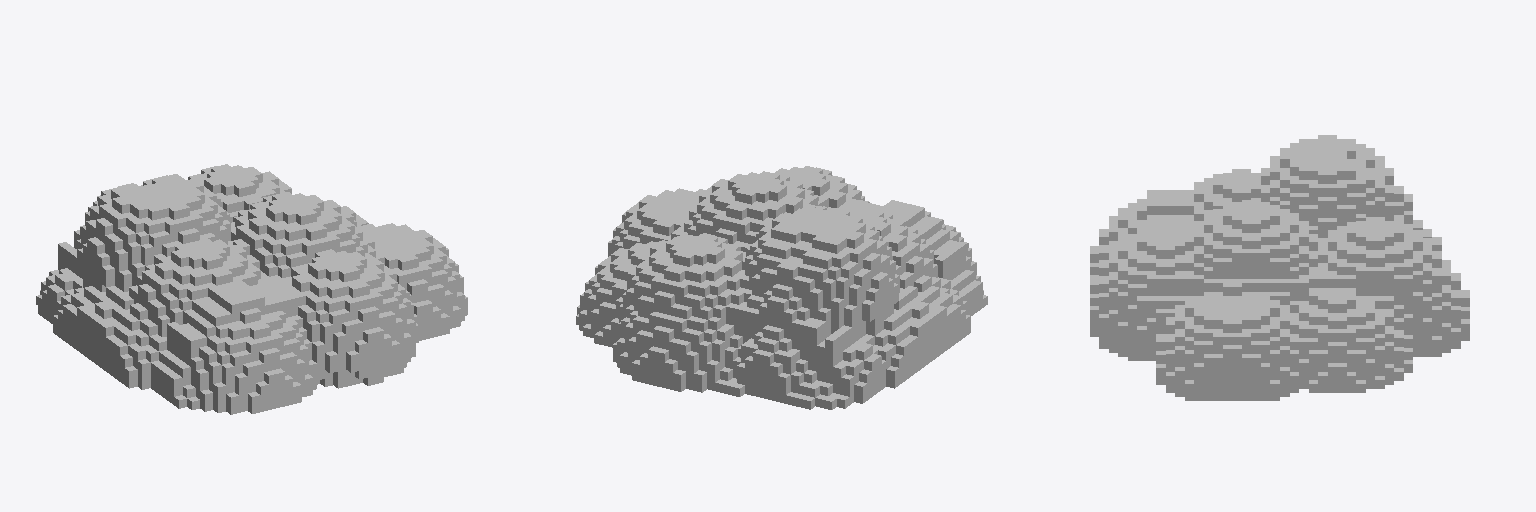
The model's file is Snowdrift_3.obj.
3 views of the same model, side by side, from view 1: azimuth 30°, elevation 25°; view 2: azimuth 150°, elevation 25°; view 3: azimuth 270°, elevation 25° (orthographic).
Parts seen in each view (by area): view 1: object 1; view 2: object 1; view 3: object 1.
Part boxes in pixels (x1,y1,x2,y2): object 1: (36, 164, 467, 414); object 1: (576, 166, 987, 409); object 1: (1090, 135, 1469, 400).
Size of the model in its own units: 4 by 1.5 by 4.